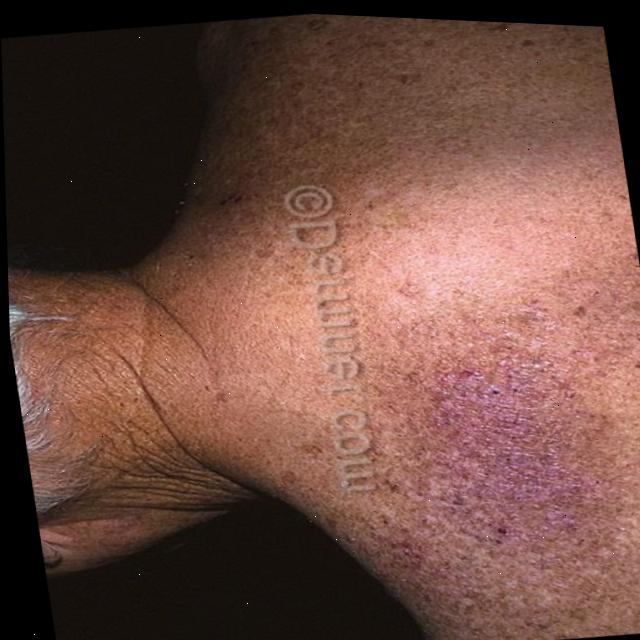Eczema: (328, 348, 592, 582)
